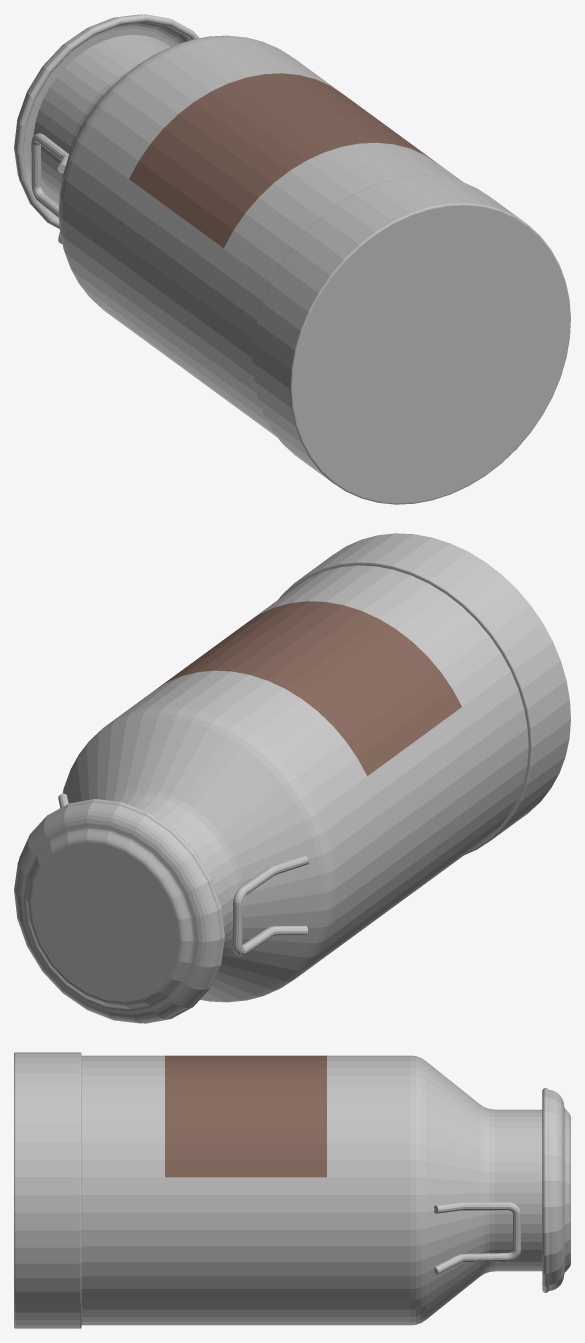
Rendered from milkcan.dae.
The picture shows the model from 3 angles, top to bottom: view 1: azimuth 30°, elevation 25°; view 2: azimuth 150°, elevation 25°; view 3: azimuth 270°, elevation 25°; orthographic projection. The views are drawn at different scales.
Visible parts, largest first — view 1: milk-can; view 2: milk-can; view 3: milk-can.
Part boxes in pixels (x1,y1,x2,y2): milk-can: (14, 14, 570, 504); milk-can: (14, 533, 570, 1023); milk-can: (14, 1052, 570, 1328).
Size of the model in its own units: 0.1614 by 0.3248 by 0.1614.
